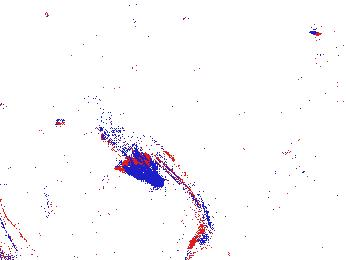glassfish: (114, 135, 219, 252)
